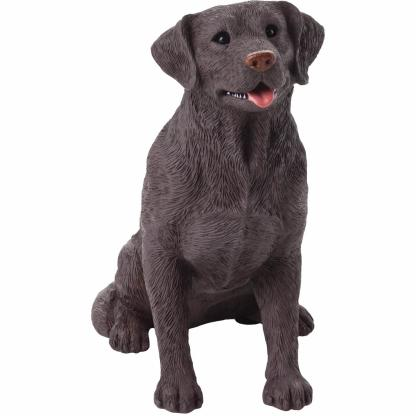dog: (86, 0, 329, 410)
